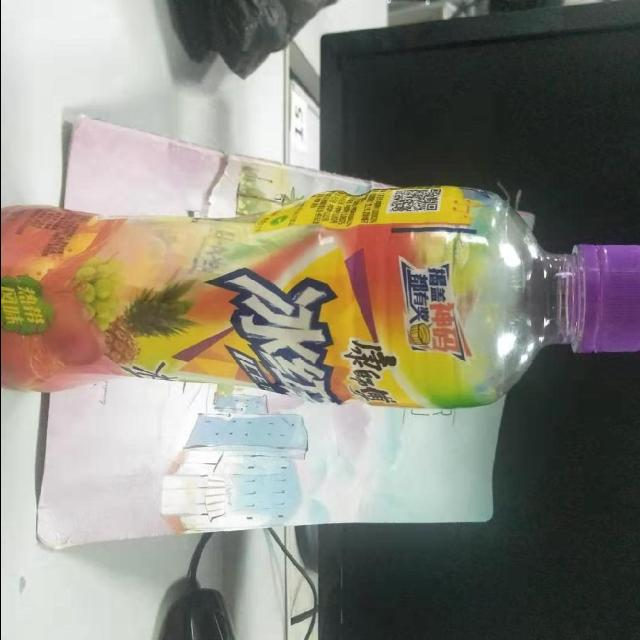-Recyclables - plastic bottle-: (0, 184, 637, 410)
